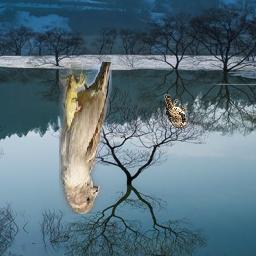Sparrow: (60, 62, 113, 214), (165, 95, 188, 130)
